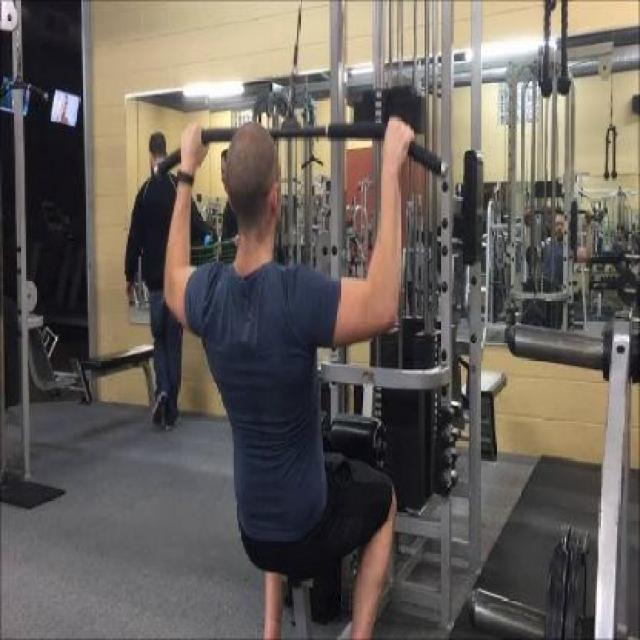Lat Pull Down: (150, 0, 496, 640)
